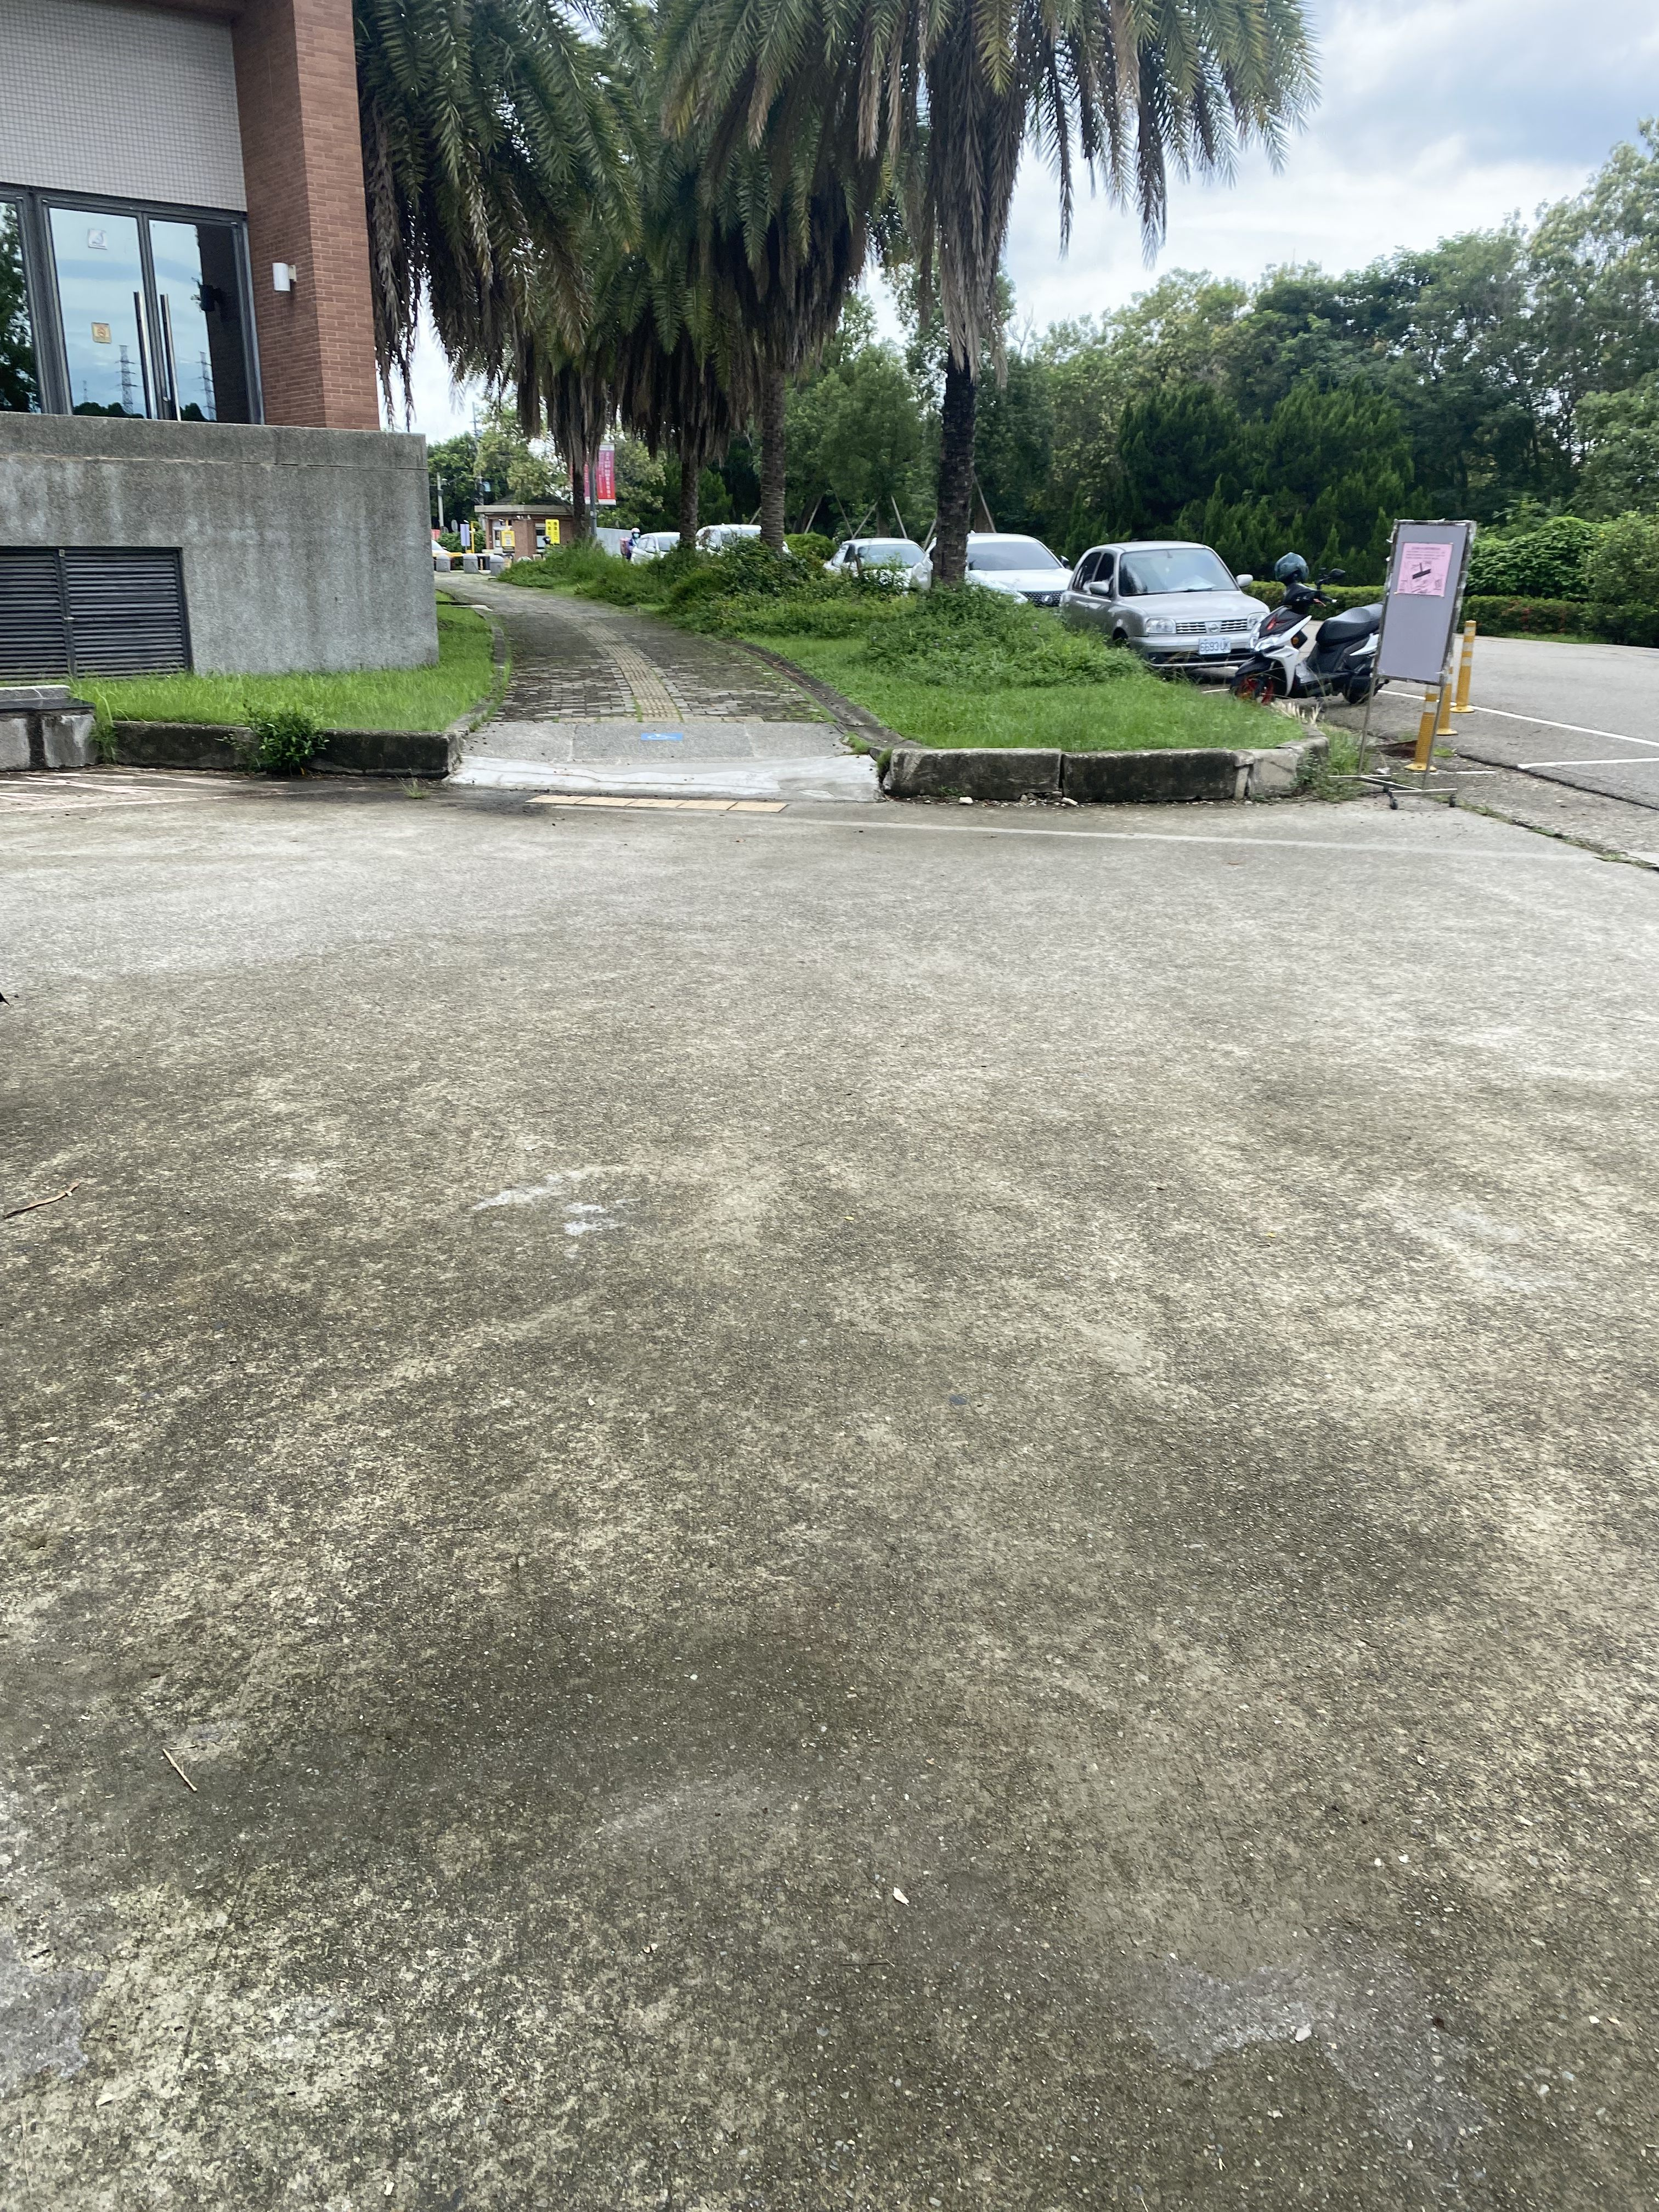sidewalk: (427, 554, 904, 862)
